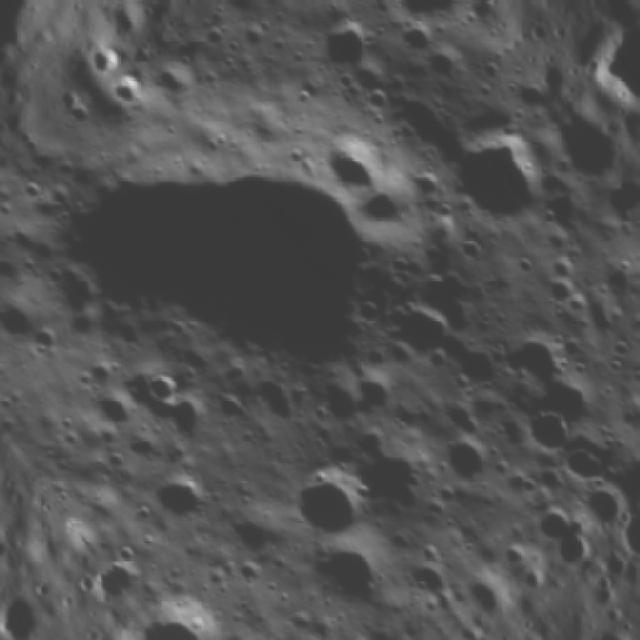crater: (28, 58, 449, 474), (432, 101, 576, 250), (271, 438, 395, 564), (292, 526, 394, 628), (373, 287, 470, 384), (315, 113, 400, 199), (351, 168, 432, 249), (141, 457, 221, 538), (501, 316, 581, 396), (146, 578, 248, 640), (430, 418, 505, 497), (362, 0, 480, 46), (219, 496, 292, 570), (310, 5, 384, 77), (534, 367, 606, 438), (554, 427, 623, 498), (347, 357, 416, 426), (403, 544, 469, 610), (312, 365, 376, 429), (88, 375, 152, 439), (557, 464, 623, 525), (519, 398, 581, 460), (151, 50, 211, 110), (522, 495, 583, 553), (100, 540, 158, 600), (456, 339, 513, 395), (0, 288, 51, 350), (392, 13, 446, 69), (23, 311, 77, 364), (99, 66, 152, 120), (595, 250, 640, 313), (350, 287, 396, 331), (141, 364, 184, 408), (463, 565, 506, 603), (235, 19, 271, 55), (67, 95, 99, 126)
